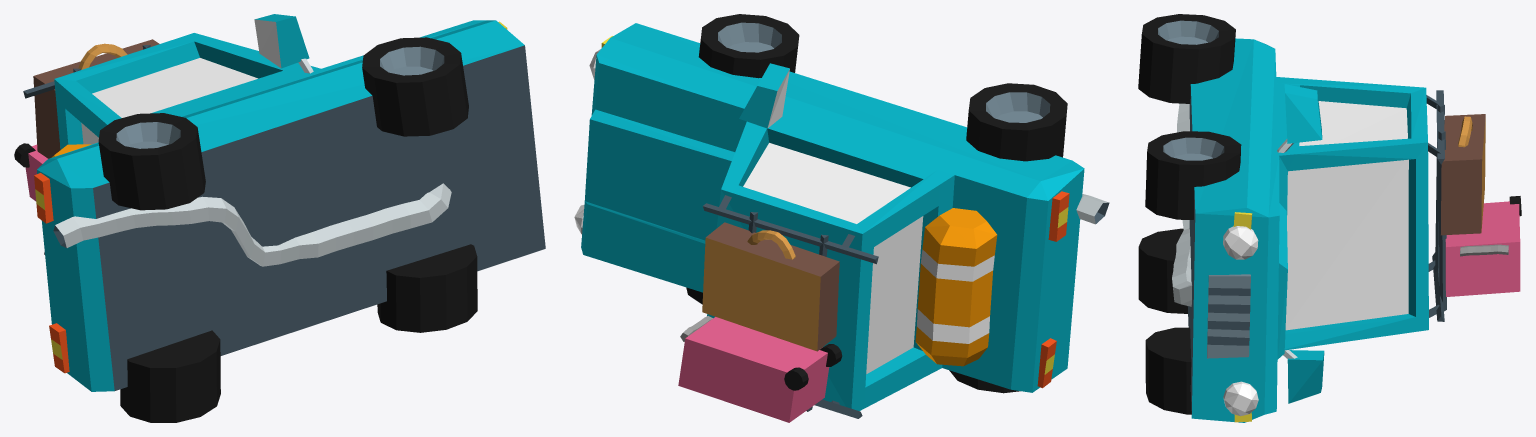
The model's file is yatra My very first trip.fbx.
The picture shows the model from 3 angles, left to right: view 1: azimuth 30°, elevation 25°; view 2: azimuth 150°, elevation 25°; view 3: azimuth 270°, elevation 25°; orthographic projection. The views are drawn at different scales.
Parts seen in each view (by area): view 1: imagetostl_mesh10, imagetostl_mesh9, imagetostl_mesh14, imagetostl_mesh0, imagetostl_mesh5, imagetostl_mesh3, imagetostl_mesh7, imagetostl_mesh11, imagetostl_mesh17, imagetostl_mesh4, imagetostl_mesh1, imagetostl_mesh28 (+4 smaller); view 2: imagetostl_mesh9, imagetostl_mesh11, imagetostl_mesh19, imagetostl_mesh18, imagetostl_mesh22, imagetostl_mesh0, imagetostl_mesh17, imagetostl_mesh5, imagetostl_mesh23, imagetostl_mesh16, imagetostl_mesh1, imagetostl_mesh4 (+5 smaller); view 3: imagetostl_mesh9, imagetostl_mesh11, imagetostl_mesh0, imagetostl_mesh19, imagetostl_mesh5, imagetostl_mesh17, imagetostl_mesh7, imagetostl_mesh3, imagetostl_mesh8, imagetostl_mesh16, imagetostl_mesh10, imagetostl_mesh28 (+7 smaller).
Part boxes in pixels (x1,y1,x2,y2): imagetostl_mesh10: [53, 45, 545, 390]; imagetostl_mesh9: [37, 20, 524, 391]; imagetostl_mesh14: [55, 183, 451, 266]; imagetostl_mesh0: [98, 113, 205, 210]; imagetostl_mesh5: [362, 37, 468, 136]; imagetostl_mesh3: [120, 330, 220, 422]; imagetostl_mesh7: [377, 244, 477, 332]; imagetostl_mesh11: [81, 58, 257, 144]; imagetostl_mesh17: [33, 39, 159, 158]; imagetostl_mesh4: [380, 46, 444, 75]; imagetostl_mesh1: [116, 122, 180, 148]; imagetostl_mesh28: [255, 14, 309, 68]; imagetostl_mesh9: [581, 23, 1084, 410]; imagetostl_mesh11: [574, 49, 923, 374]; imagetostl_mesh19: [678, 317, 829, 422]; imagetostl_mesh18: [702, 230, 820, 351]; imagetostl_mesh22: [915, 208, 997, 366]; imagetostl_mesh0: [966, 83, 1067, 161]; imagetostl_mesh17: [706, 222, 839, 351]; imagetostl_mesh5: [698, 14, 799, 78]; imagetostl_mesh23: [917, 249, 994, 343]; imagetostl_mesh16: [702, 195, 878, 418]; imagetostl_mesh1: [986, 92, 1050, 122]; imagetostl_mesh4: [718, 22, 781, 52]; imagetostl_mesh9: [1190, 38, 1428, 422]; imagetostl_mesh11: [1223, 101, 1408, 416]; imagetostl_mesh0: [1138, 14, 1235, 103]; imagetostl_mesh19: [1445, 201, 1520, 296]; imagetostl_mesh5: [1145, 131, 1241, 219]; imagetostl_mesh17: [1441, 114, 1485, 235]; imagetostl_mesh7: [1145, 327, 1191, 414]; imagetostl_mesh3: [1138, 228, 1187, 313]; imagetostl_mesh8: [1207, 274, 1250, 358]; imagetostl_mesh16: [1426, 90, 1446, 321]; imagetostl_mesh10: [1187, 86, 1250, 414]; imagetostl_mesh28: [1284, 84, 1322, 143].
Size of the model in its own units: 63.58 by 38.21 by 44.27.
